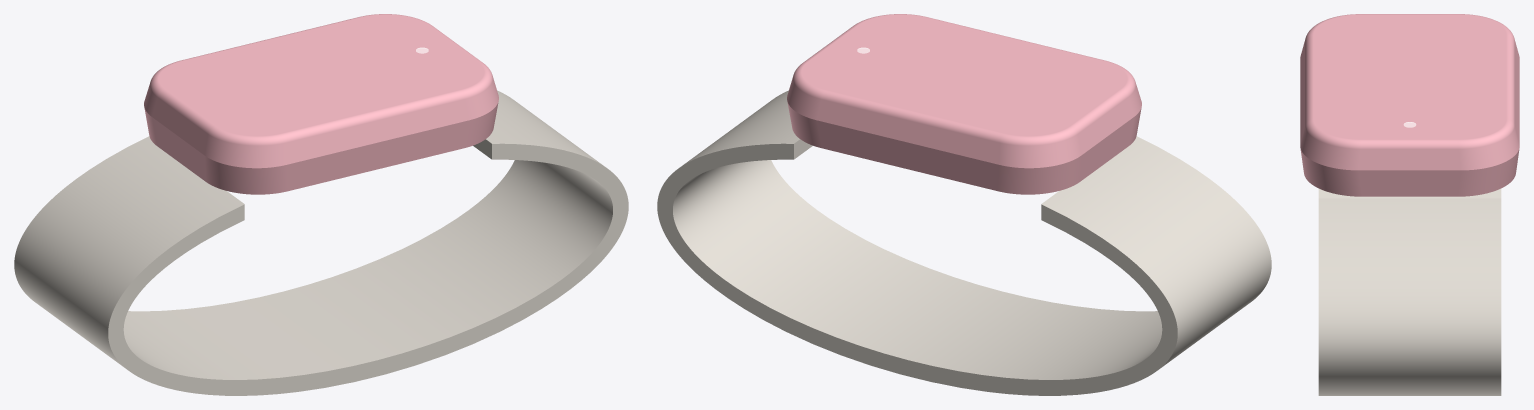
The picture shows the model from 3 angles, left to right: view 1: azimuth 30°, elevation 25°; view 2: azimuth 150°, elevation 25°; view 3: azimuth 270°, elevation 25°; orthographic projection. The views are drawn at different scales.
Visible parts, largest first — view 1: fabric.1, body.2, body.1; view 2: fabric.1, body.2, body.1; view 3: fabric.1, body.2, body.1.
Boxes of the visible parts, x1,y1,x2,y2 form: fabric.1: [14, 90, 628, 395]; body.2: [144, 14, 498, 168]; body.1: [144, 103, 498, 194]; fabric.1: [657, 90, 1271, 395]; body.2: [787, 14, 1141, 168]; body.1: [787, 103, 1141, 194]; fabric.1: [1318, 188, 1501, 395]; body.2: [1300, 14, 1519, 170]; body.1: [1300, 149, 1519, 196].
Bounding box in the file's own units: 0.08 × 0.0396 × 0.03.
